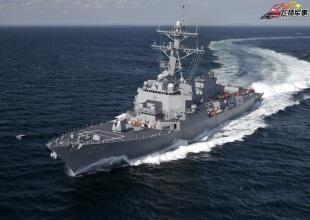warship: (49, 6, 264, 178)
